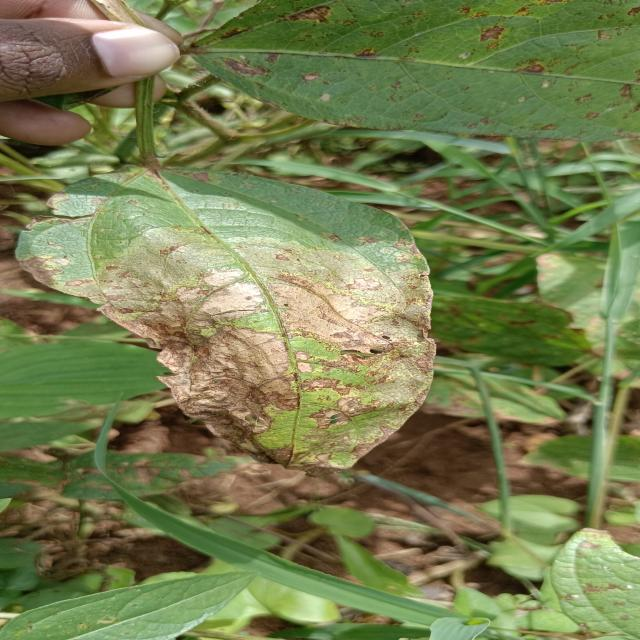Black gram_leaf spot: (4, 149, 479, 477), (175, 0, 640, 147)
